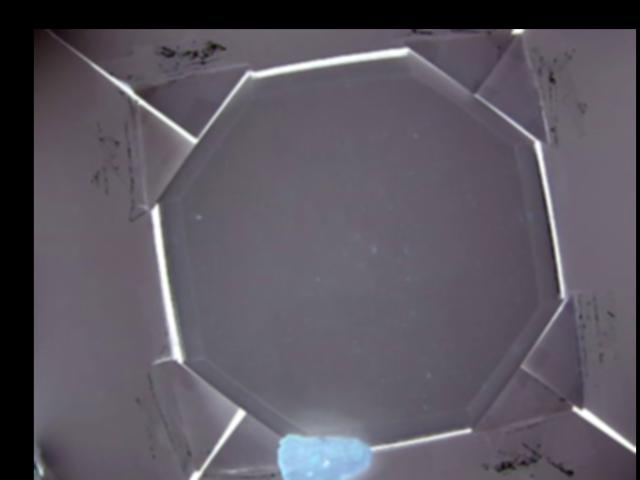Brisk: (277, 436, 372, 480)
